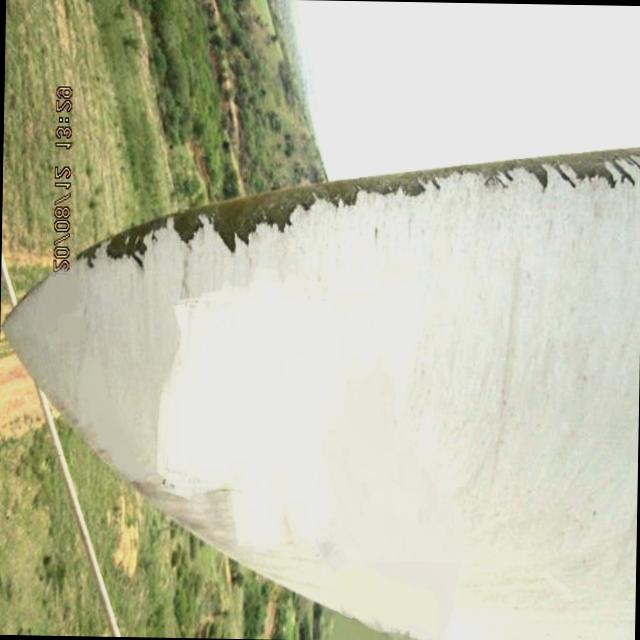corrosion: (78, 164, 390, 269), (398, 139, 640, 200)
